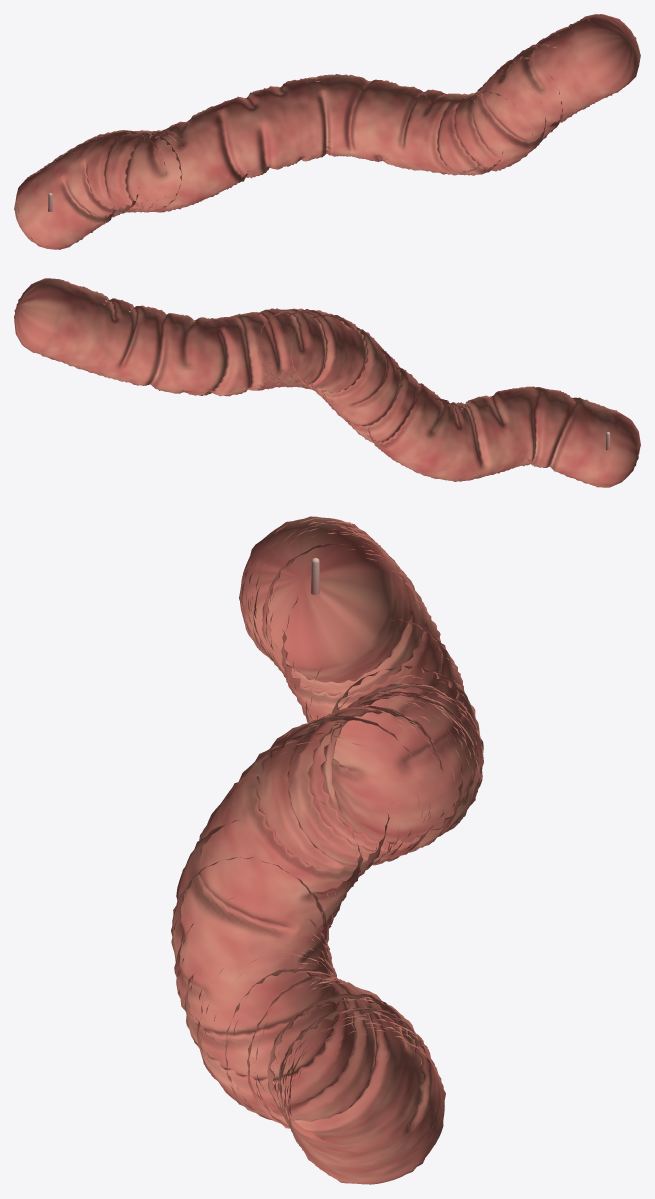
3 views of the same model, one above another, from view 1: azimuth 30°, elevation 25°; view 2: azimuth 150°, elevation 25°; view 3: azimuth 270°, elevation 25° (orthographic). The views are drawn at different scales.
Visible parts, largest first — view 1: si_wall; view 2: si_wall; view 3: si_wall.
Boxes of the visible parts, bbox=[...] form: si_wall: bbox=[14, 14, 640, 249]; si_wall: bbox=[14, 278, 640, 487]; si_wall: bbox=[171, 516, 483, 1184].
Size of the model in its own units: 39.66 by 7.1 by 8.9.
